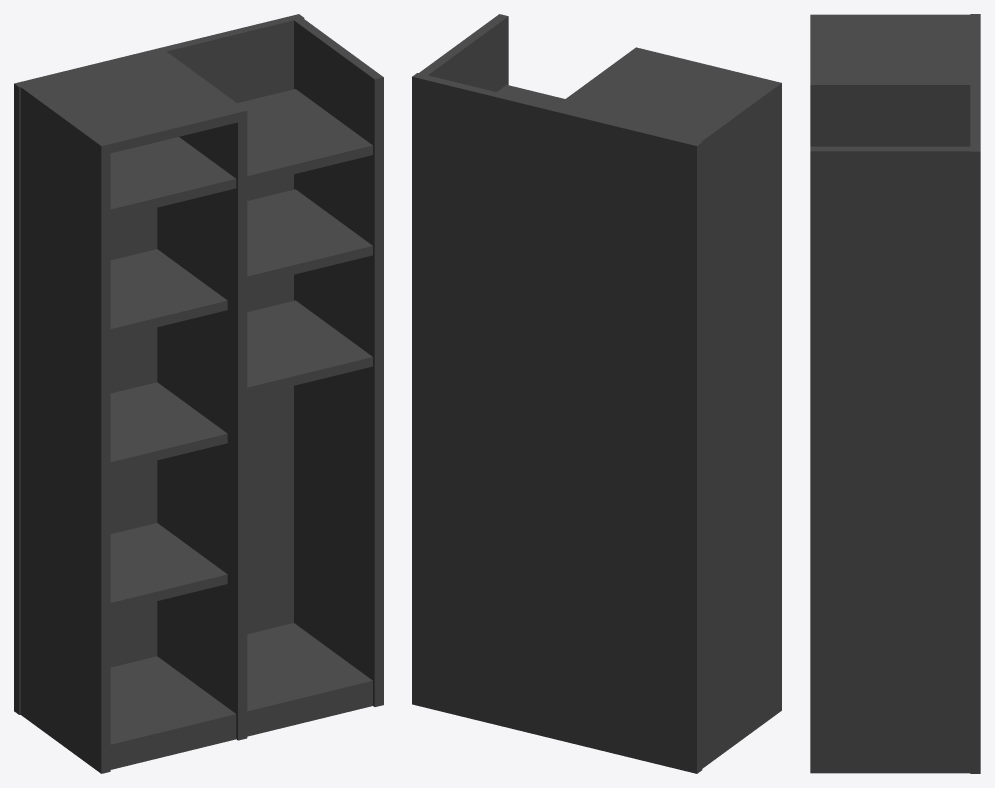
The model's file is Armario01.fbx.
3 views of the same model, side by side, from view 1: azimuth 30°, elevation 25°; view 2: azimuth 150°, elevation 25°; view 3: azimuth 270°, elevation 25° (orthographic).
Parts seen in each view (by area): view 1: Armario01; view 2: Armario01; view 3: Armario01.
Boxes of the visible parts, left/top/right/bottom form: Armario01: left=14, top=14, right=383, bottom=773; Armario01: left=412, top=14, right=781, bottom=773; Armario01: left=810, top=14, right=980, bottom=773.
Bounding box in the file's own units: 152 × 320 × 79.49.
